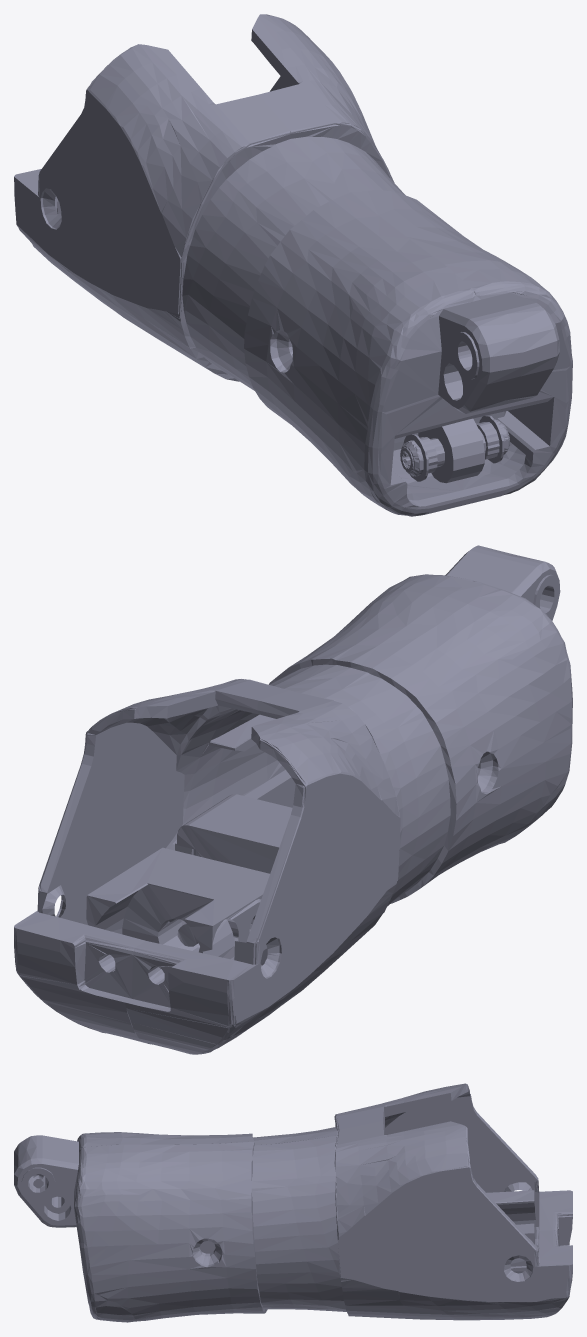
File: hand1_link_1_2_visuals.obj
3 renders of one model, top to bottom at view 1: azimuth 30°, elevation 25°; view 2: azimuth 150°, elevation 25°; view 3: azimuth 270°, elevation 25°, orthographic. The views are drawn at different scales.
Bounding box in the file's own units: 0.021 × 0.0268 × 0.0663.
